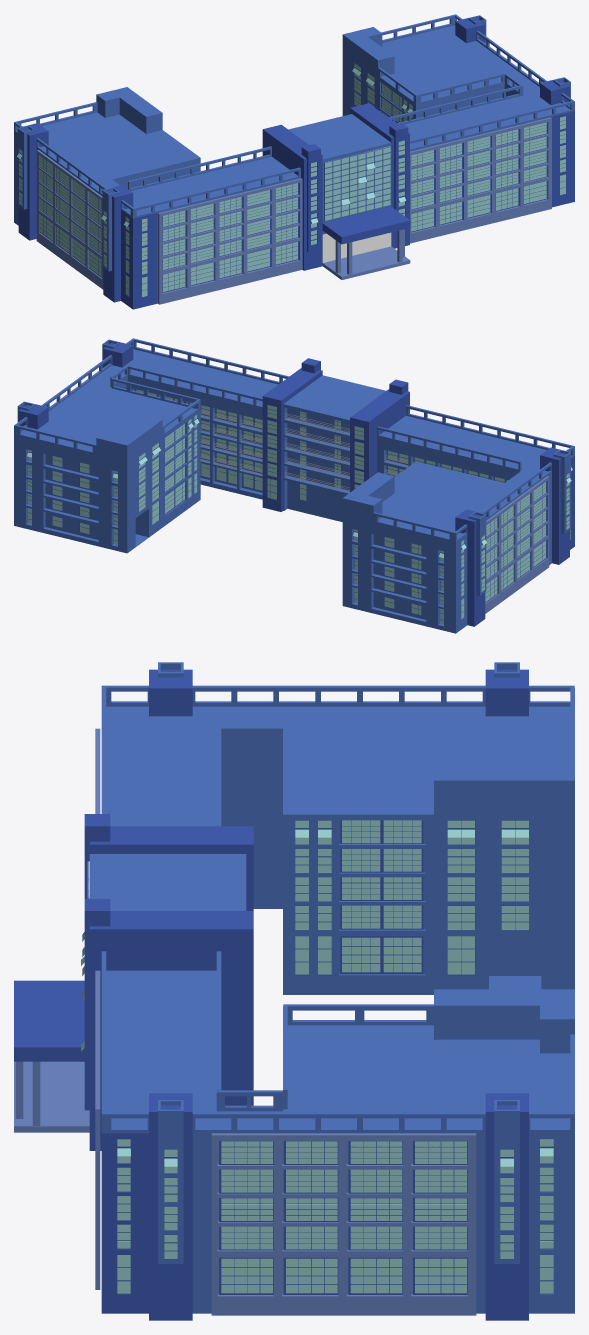
Rendered from gc_floor.glb.
3 renders of one model, top to bottom at view 1: azimuth 30°, elevation 25°; view 2: azimuth 150°, elevation 25°; view 3: azimuth 270°, elevation 25°, orthographic. The views are drawn at different scales.
Parts seen in each view (by area): view 1: 窗户, 立方体.013, 窗户体, 立方体.002, 立方体.029, Cube.033, 立方体.003, 窗户.001, Cube.001, 正楼玻璃窗, 窗户体.001, 立方体 (+17 smaller); view 2: 立方体.013, 立方体.002, 立方体, 立方体.003, Cube.033, 窗户.001, Cube.001, 窗户体.001, 边上玻璃窗-开.008, 栏杆1, 栏杆1.001, 边上玻璃窗-开.013 (+18 smaller); view 3: 立方体.013, 窗户.001, 立方体.002, 窗户体.001, 立方体.003, Cube.033, Cube.001, 立方体.004, 窗户.002, 栏杆2, 立方体.029, 立方体 (+17 smaller).
Part boxes in pixels (x1=…): 窗户: x1=162, y1=122, x2=547, y2=292; 立方体.013: x1=14, y1=25, x2=526, y2=225; 窗户体: x1=158, y1=117, x2=551, y2=304; 立方体.002: x1=131, y1=96, x2=549, y2=303; 立方体.029: x1=121, y1=97, x2=574, y2=309; Cube.033: x1=18, y1=18, x2=569, y2=302; 立方体.003: x1=262, y1=103, x2=409, y2=270; 窗户.001: x1=39, y1=156, x2=101, y2=277; Cube.001: x1=96, y1=27, x2=394, y2=133; 正楼玻璃窗: x1=325, y1=147, x2=390, y2=220; 窗户体.001: x1=36, y1=42, x2=538, y2=289; 立方体: x1=288, y1=114, x2=391, y2=234; 立方体.013: x1=14, y1=382, x2=524, y2=633; 立方体.002: x1=127, y1=355, x2=546, y2=499; 立方体: x1=283, y1=375, x2=386, y2=521; 立方体.003: x1=262, y1=368, x2=409, y2=511; Cube.033: x1=18, y1=341, x2=569, y2=626; 窗户.001: x1=485, y1=481, x2=546, y2=602; Cube.001: x1=96, y1=415, x2=394, y2=522; 窗户体.001: x1=50, y1=368, x2=549, y2=613; 边上玻璃窗-开.008: x1=136, y1=389, x2=508, y2=490; 栏杆1: x1=132, y1=338, x2=574, y2=455; 栏杆1.001: x1=128, y1=365, x2=521, y2=471; 边上玻璃窗-开.013: x1=52, y1=456, x2=421, y2=614; 立方体.013: x1=283, y1=706, x2=574, y2=1313; 窗户.001: x1=219, y1=1141, x2=467, y2=1294; 立方体.002: x1=106, y1=728, x2=216, y2=1109; 窗户体.001: x1=211, y1=1133, x2=476, y2=1315; 立方体.003: x1=89, y1=826, x2=253, y2=1150; Cube.033: x1=149, y1=669, x2=528, y2=1320; Cube.001: x1=434, y1=750, x2=574, y2=1053; 立方体.004: x1=192, y1=706, x2=282, y2=1313; 窗户.002: x1=340, y1=820, x2=423, y2=973; 栏杆2: x1=106, y1=685, x2=574, y2=1133; 立方体.029: x1=101, y1=706, x2=192, y2=1313; 立方体: x1=89, y1=854, x2=246, y2=910.
Size of the model in its own units: 36.61 by 8.93 by 19.16.
